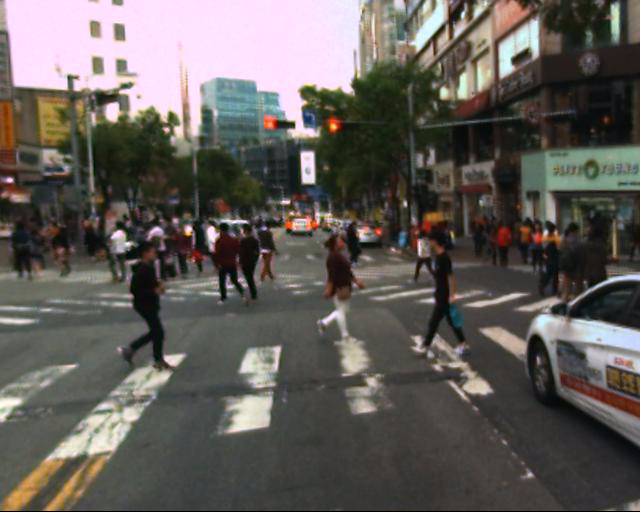person: (102, 214, 204, 379), (407, 224, 479, 368), (310, 229, 370, 356), (435, 217, 532, 277), (540, 220, 631, 274), (209, 224, 255, 315), (231, 222, 270, 316), (242, 210, 281, 290), (141, 211, 174, 293), (104, 220, 134, 293), (489, 216, 517, 286), (407, 224, 438, 279)
